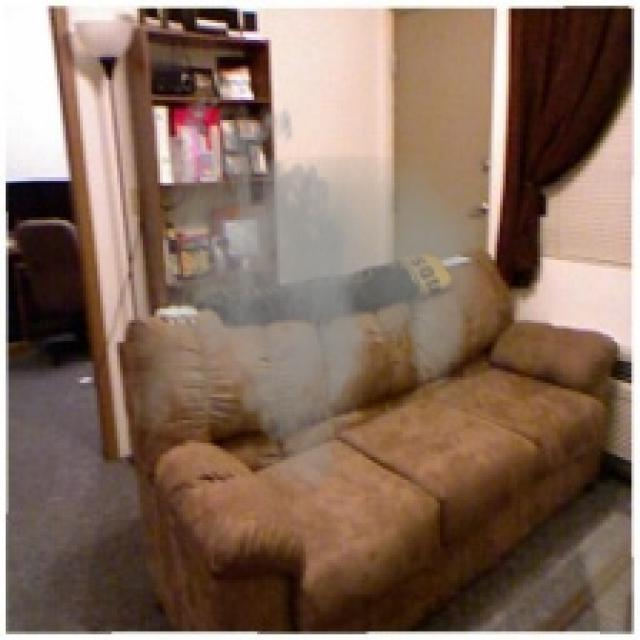smoke: (134, 80, 486, 506)
